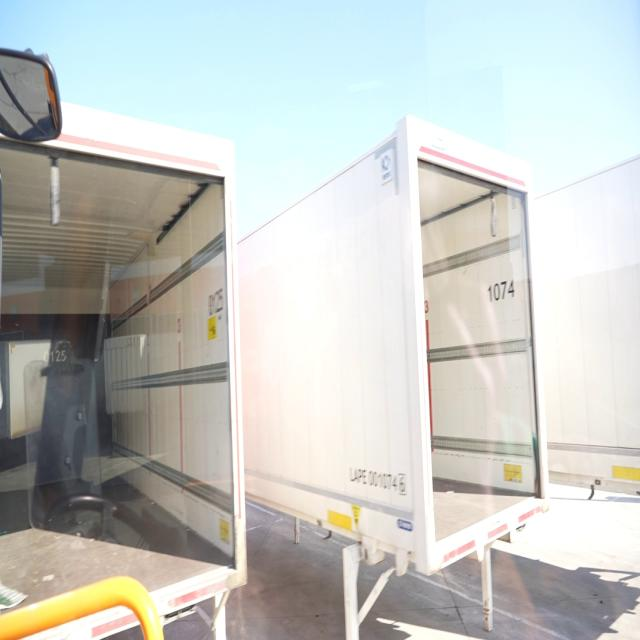Code: (482, 272, 520, 306)
